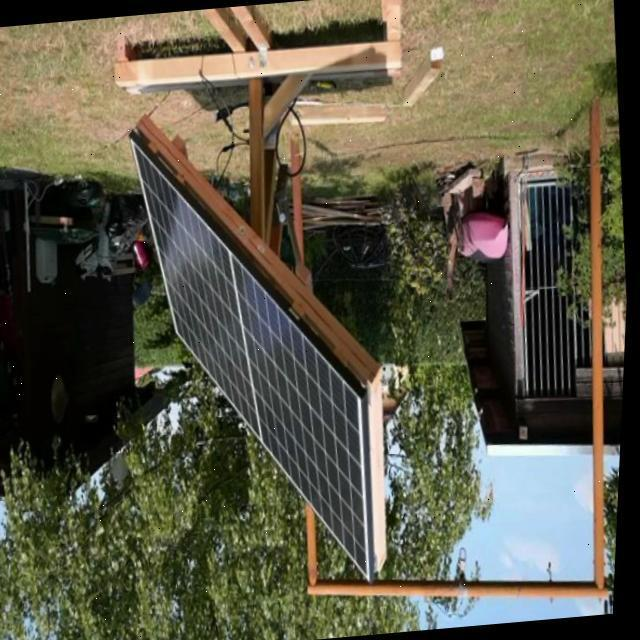Normal Solar Panel: (119, 120, 392, 591)
